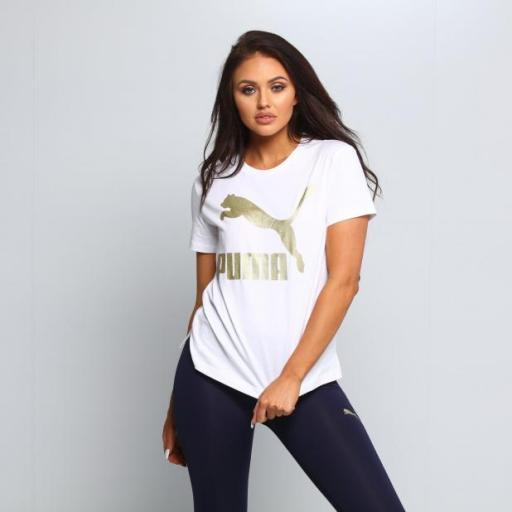Puma: (216, 184, 313, 275), (210, 246, 292, 286)
